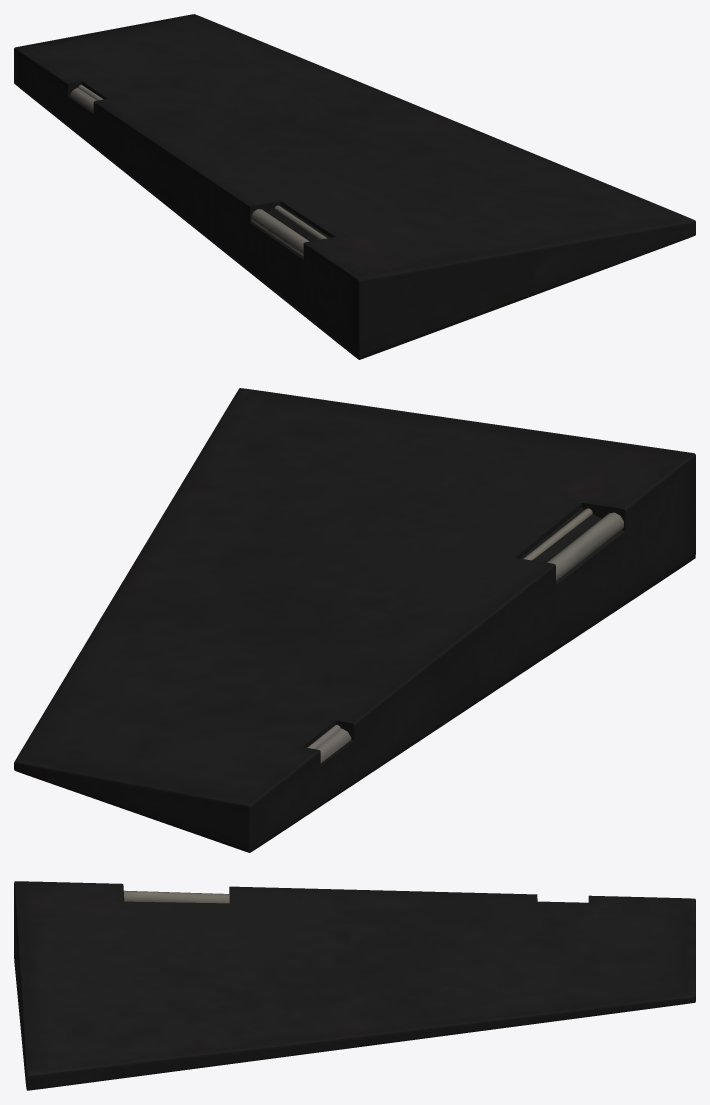
Rendered from x15_flap_right.glb.
The picture shows the model from 3 angles, top to bottom: view 1: azimuth 30°, elevation 25°; view 2: azimuth 150°, elevation 25°; view 3: azimuth 270°, elevation 25°; orthographic projection. The views are drawn at different scales.
Visible parts, largest first — view 1: flap_right_export; view 2: flap_right_export; view 3: flap_right_export.
Boxes of the visible parts, x1,y1,x2,y2 form: flap_right_export: (14,14,695,359); flap_right_export: (14,388,695,852); flap_right_export: (14,881,695,1090).
Bounding box in the file's own units: 0.7894 × 0.1755 × 1.36.
1 material, 1 textured.
